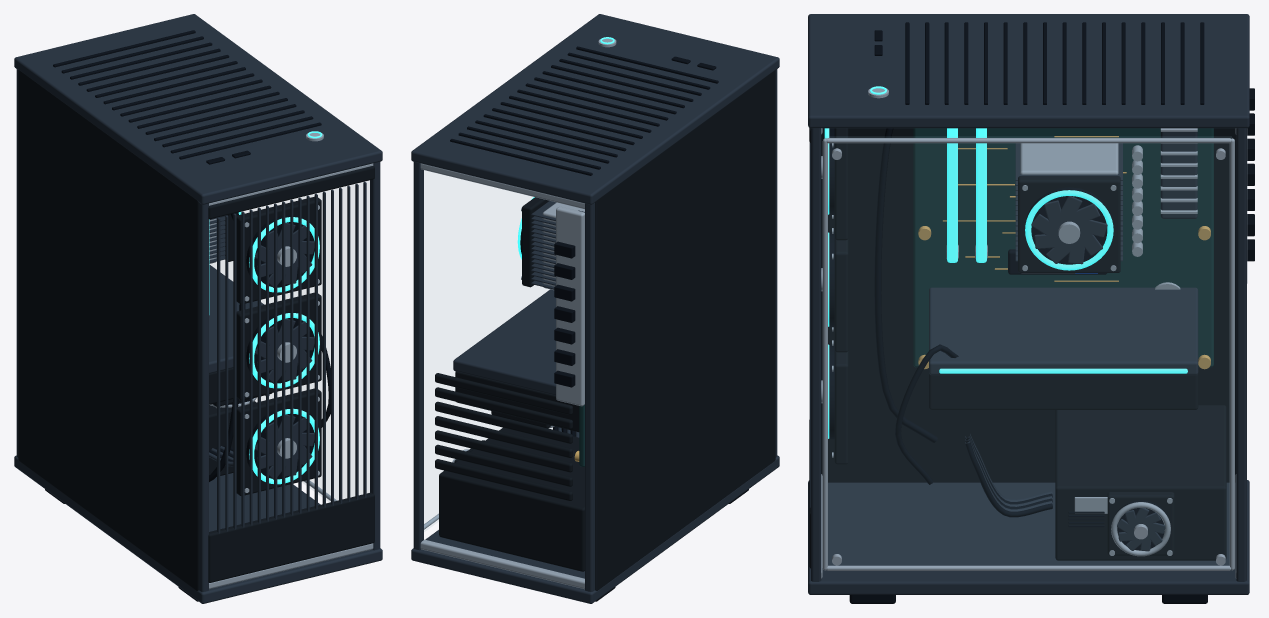
File: jbc-atx-pc.glb
3 views of the same model, side by side, from view 1: azimuth 30°, elevation 25°; view 2: azimuth 150°, elevation 25°; view 3: azimuth 270°, elevation 25° (orthographic). The views are drawn at different scales.
Visible parts, largest first — view 1: case, cooling, gpu, psu, CPUCooler; view 2: case, psu, gpu, CPUCooler; view 3: case, motherboard, gpu, psu, CPUCooler, SidePanel, cooling, ram.
Boxes of the visible parts, <box> form: case: <box>14,14,382,603</box>; cooling: <box>236,196,321,495</box>; gpu: <box>209,264,330,427</box>; psu: <box>209,401,256,476</box>; CPUCooler: <box>209,212,241,263</box>; case: <box>411,14,779,603</box>; psu: <box>439,426,584,571</box>; gpu: <box>453,289,579,432</box>; CPUCooler: <box>517,197,584,290</box>; case: <box>808,14,1254,603</box>; motherboard: <box>874,128,1213,442</box>; gpu: <box>895,287,1198,484</box>; psu: <box>965,405,1226,560</box>; CPUCooler: <box>1015,143,1122,272</box>; SidePanel: <box>822,138,1234,570</box>; cooling: <box>821,128,848,464</box>; ram: <box>946,128,987,262</box>.
Size of the model in its own units: 2.19 by 4.78 by 3.86.
